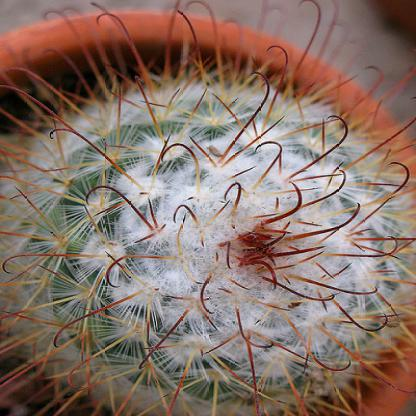pottedplant: (0, 10, 415, 415)
